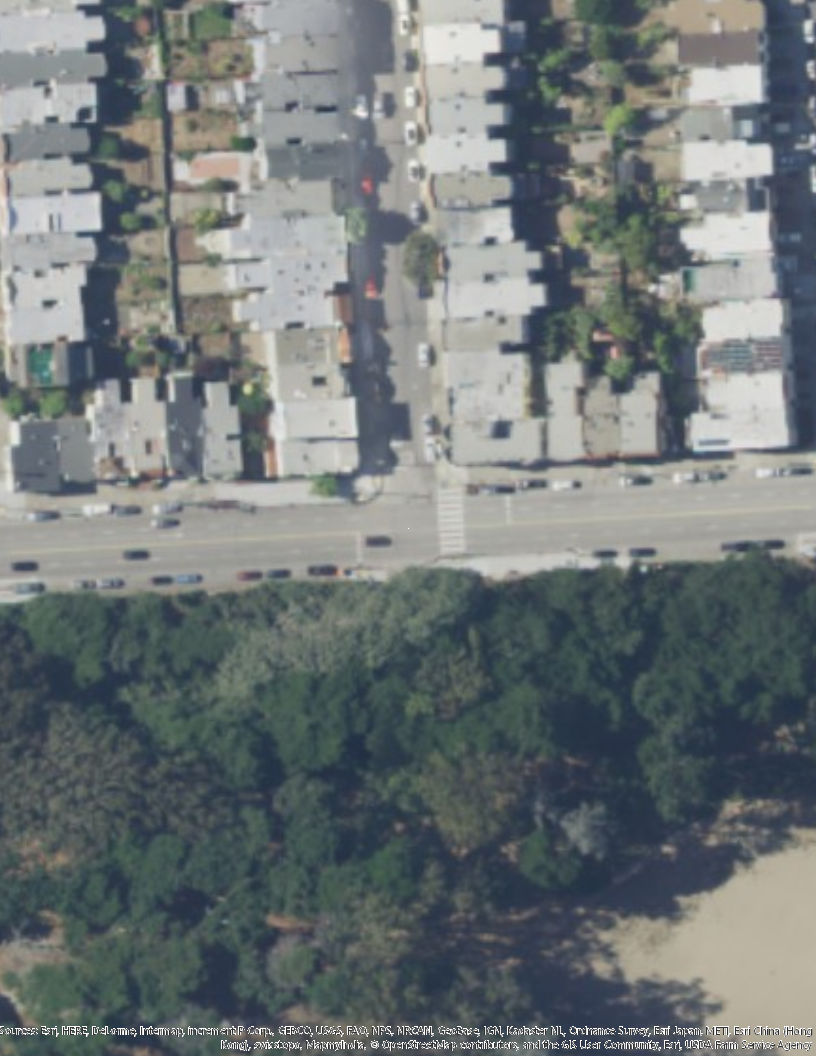zebracross: (437, 492, 464, 558)
